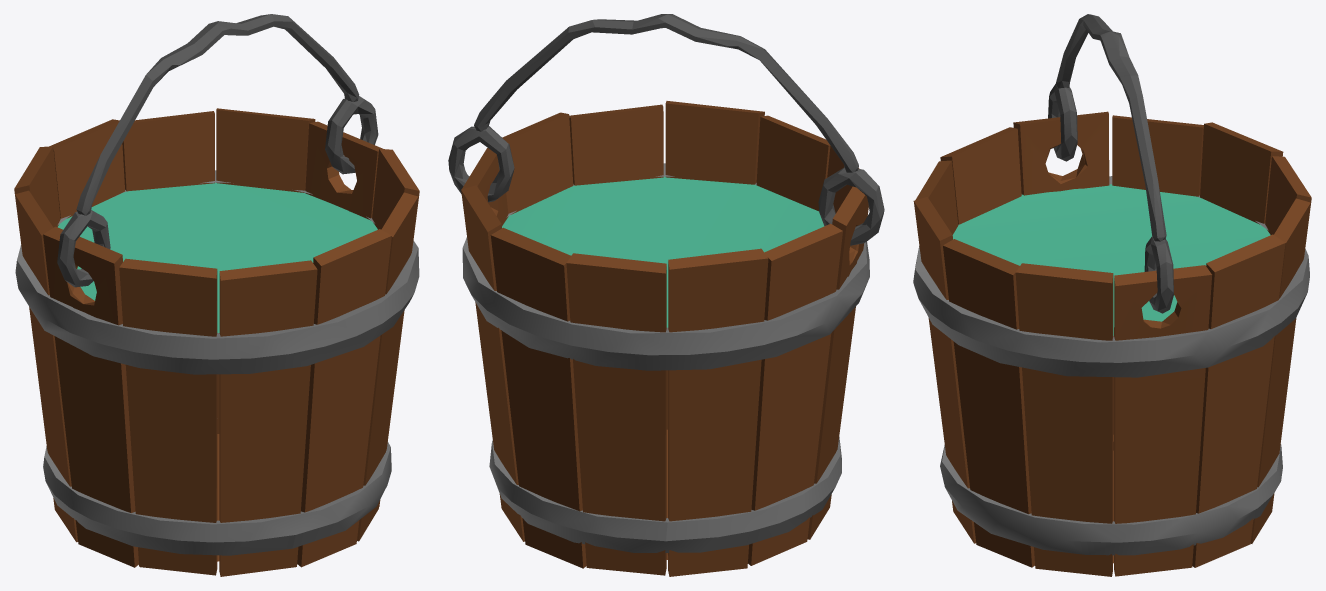
Rendered from Medieval water bucket.fbx.
The picture shows the model from 3 angles, left to right: view 1: azimuth 30°, elevation 25°; view 2: azimuth 150°, elevation 25°; view 3: azimuth 270°, elevation 25°; orthographic projection. The views are drawn at different scales.
Visible parts, largest first — view 1: Eimer; view 2: Eimer; view 3: Eimer.
Part boxes in pixels (box(x1,y1,x2,y2)): Eimer: box(14, 14, 419, 576); Eimer: box(448, 14, 884, 576); Eimer: box(913, 14, 1311, 576).
Bounding box in the file's own units: 39.23 × 48.99 × 36.89.
